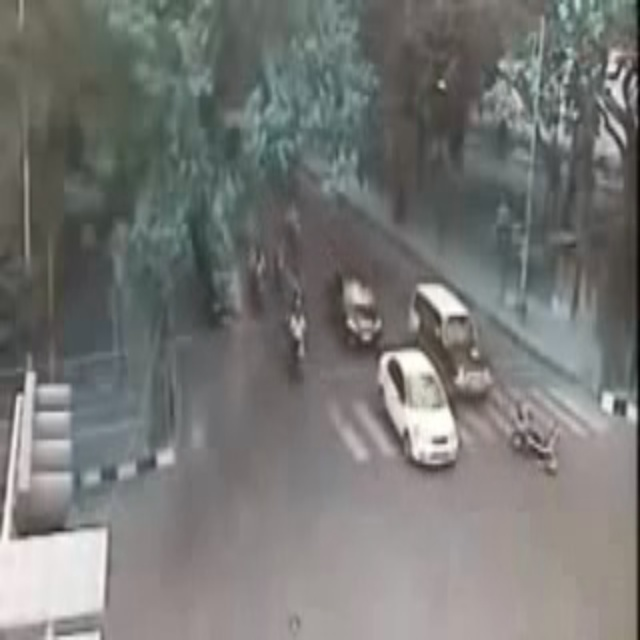acc: (501, 396, 573, 484)
